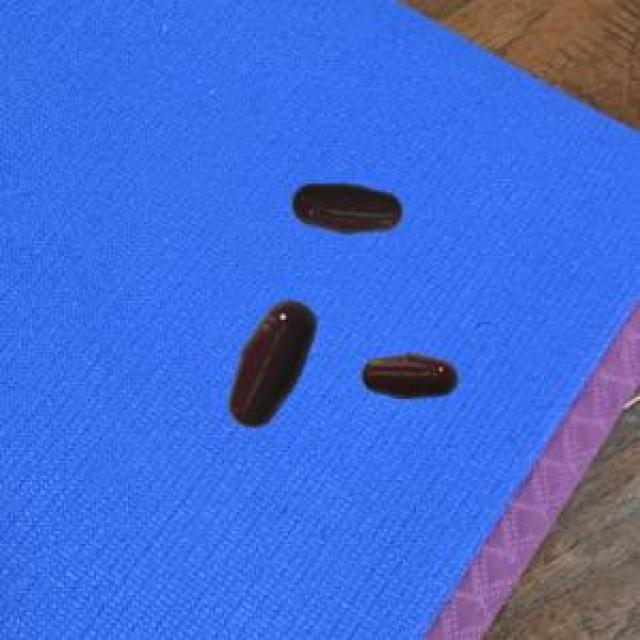DayZinc: (214, 292, 327, 442), (273, 170, 425, 244), (356, 342, 472, 413)
